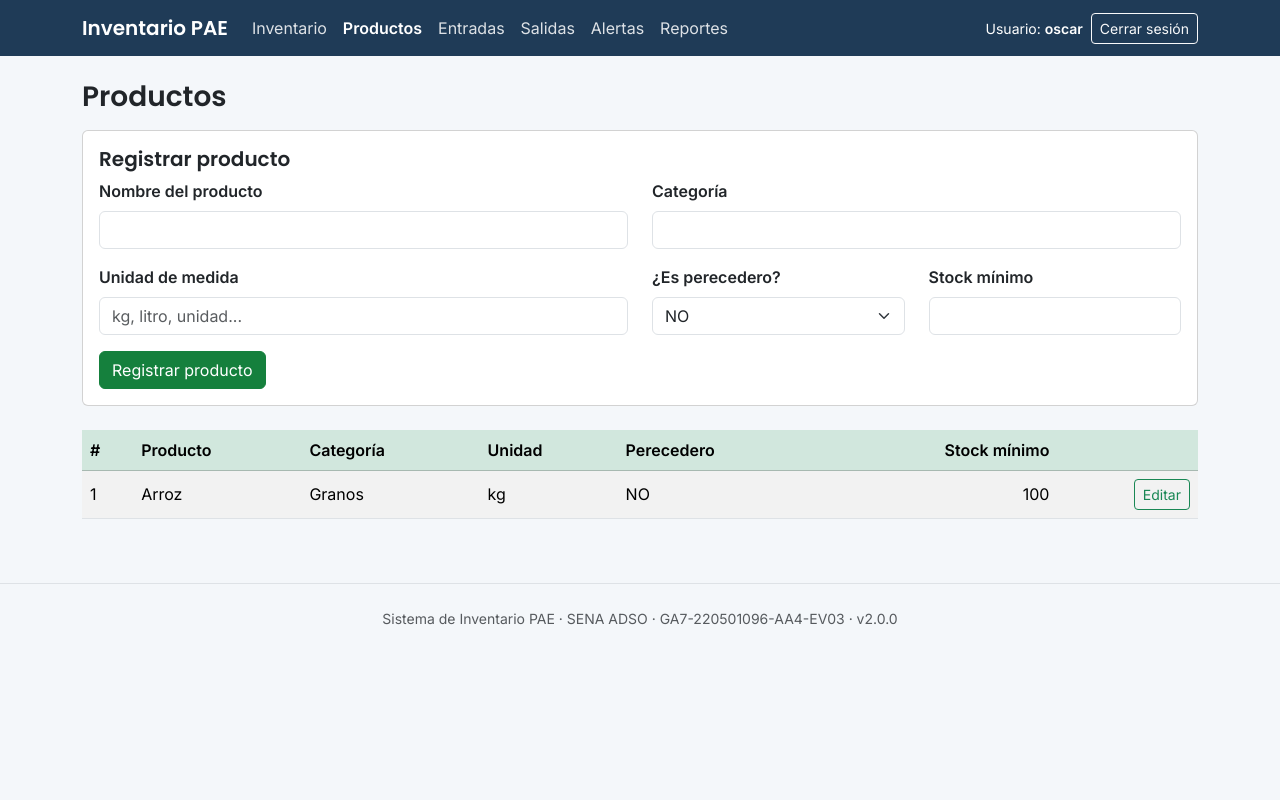
Test: Sistema de Inventario PAE (front-end) › HU-02: muestra el error de producto duplicado que devuelve la API (409)
Expected: the text "Arroz" is shown, [133, 470, 301, 518]
Type "Arroz" into the field labelled "Nombre del producto" at (364, 230), box [99, 211, 628, 249]
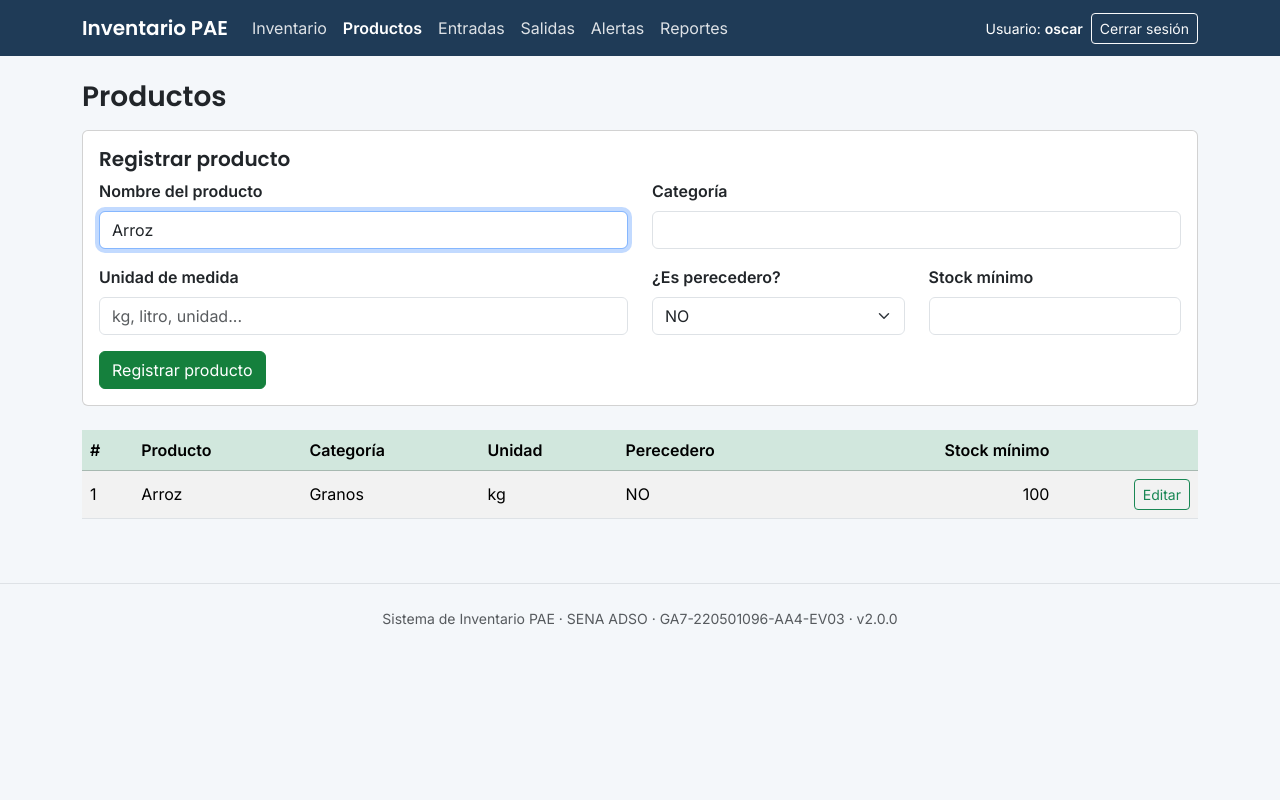
Type "Granos" into the field labelled "Categoría" at (916, 230), box [652, 211, 1181, 249]
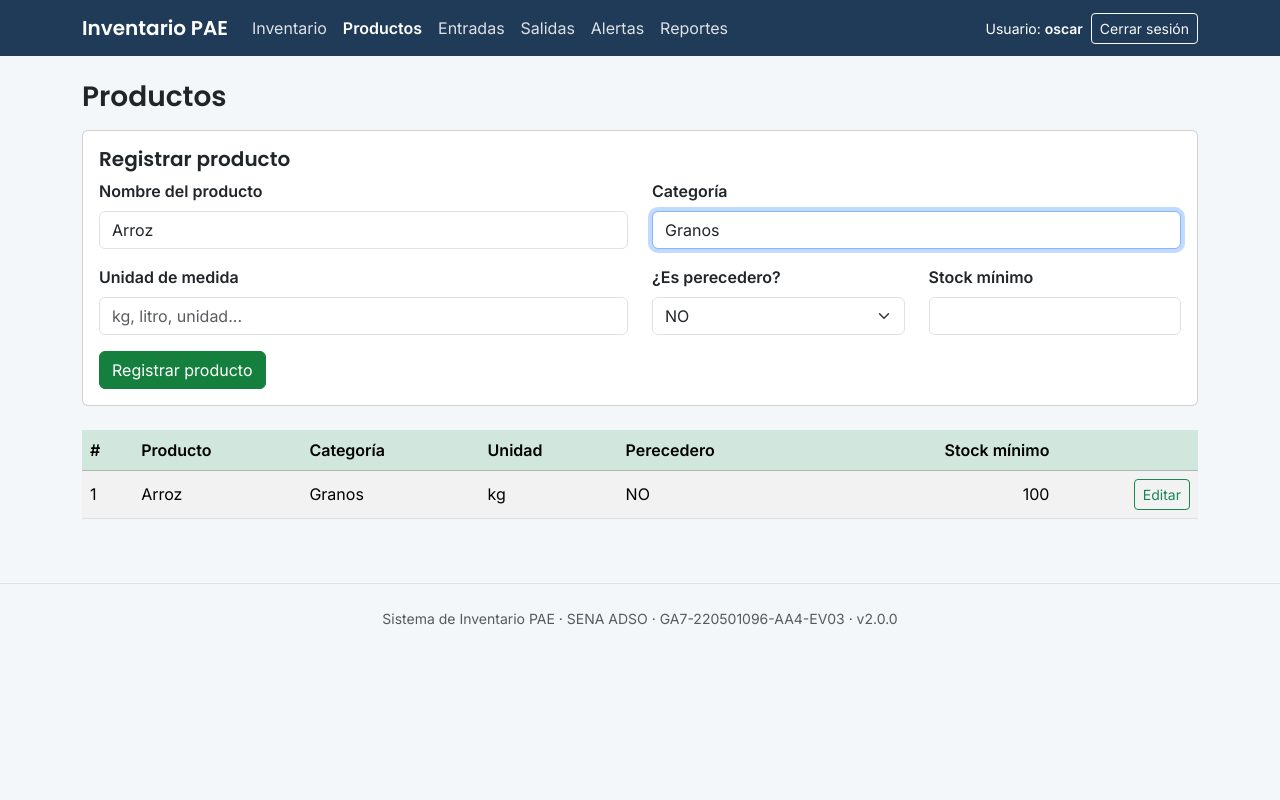
Type "kg" into the field labelled "Unidad de medida" at (364, 316), box [99, 297, 628, 335]
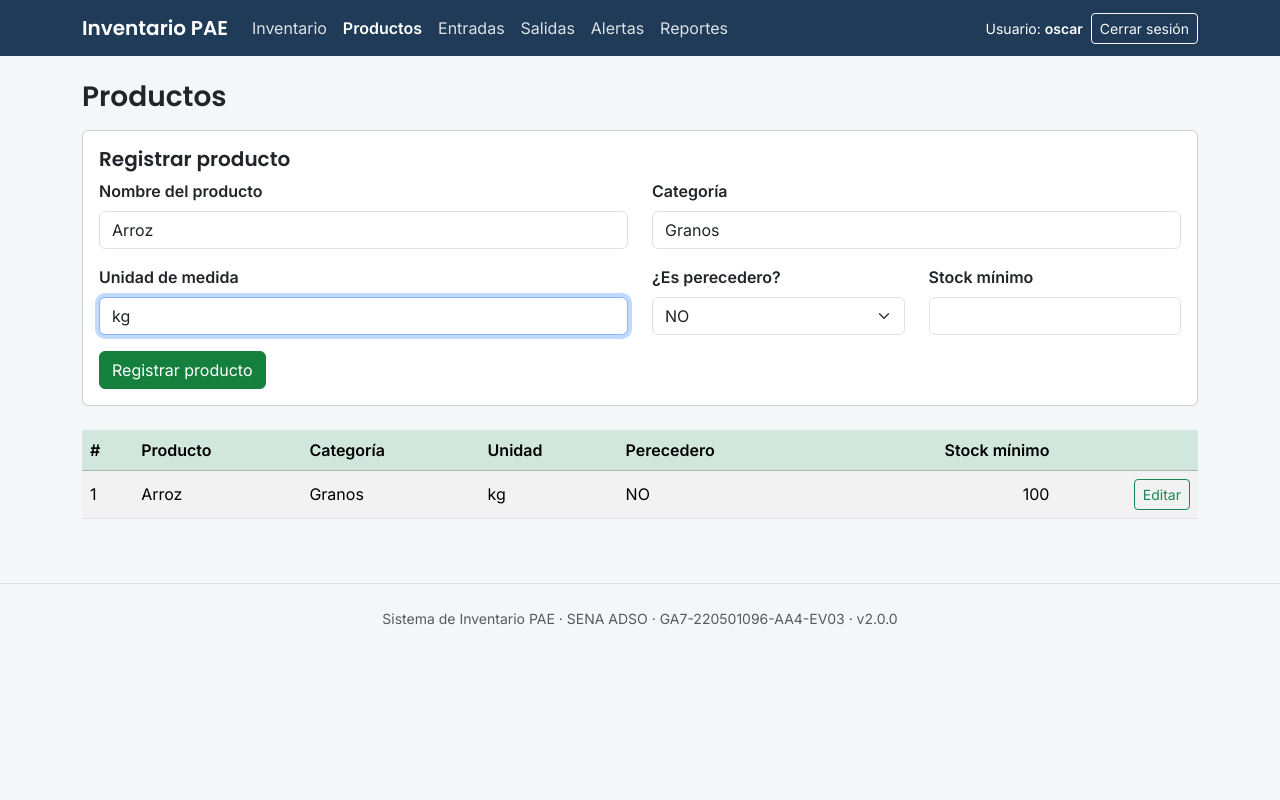
Type "10" into the number field labelled "Stock mínimo" at (1055, 316), box [928, 297, 1181, 335]
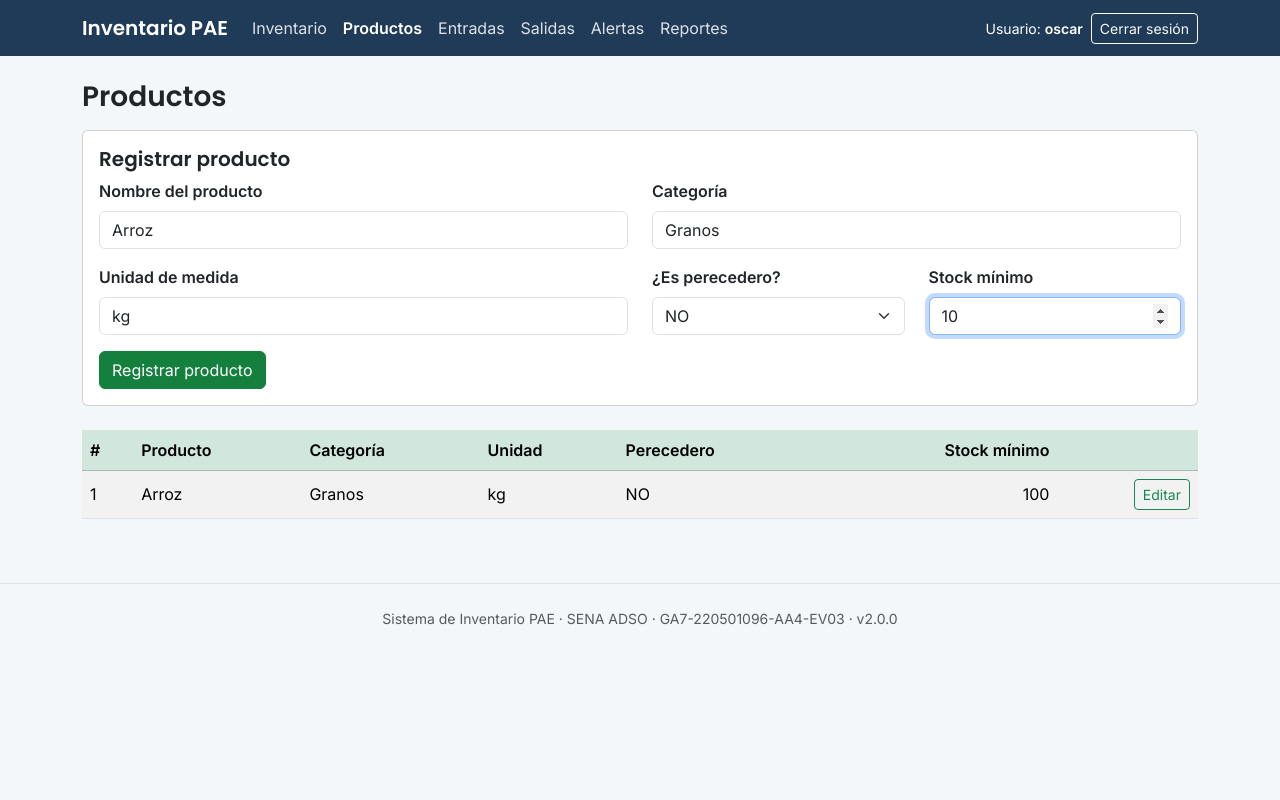
Click the button "Registrar producto" at (182, 370), box [99, 351, 266, 389]
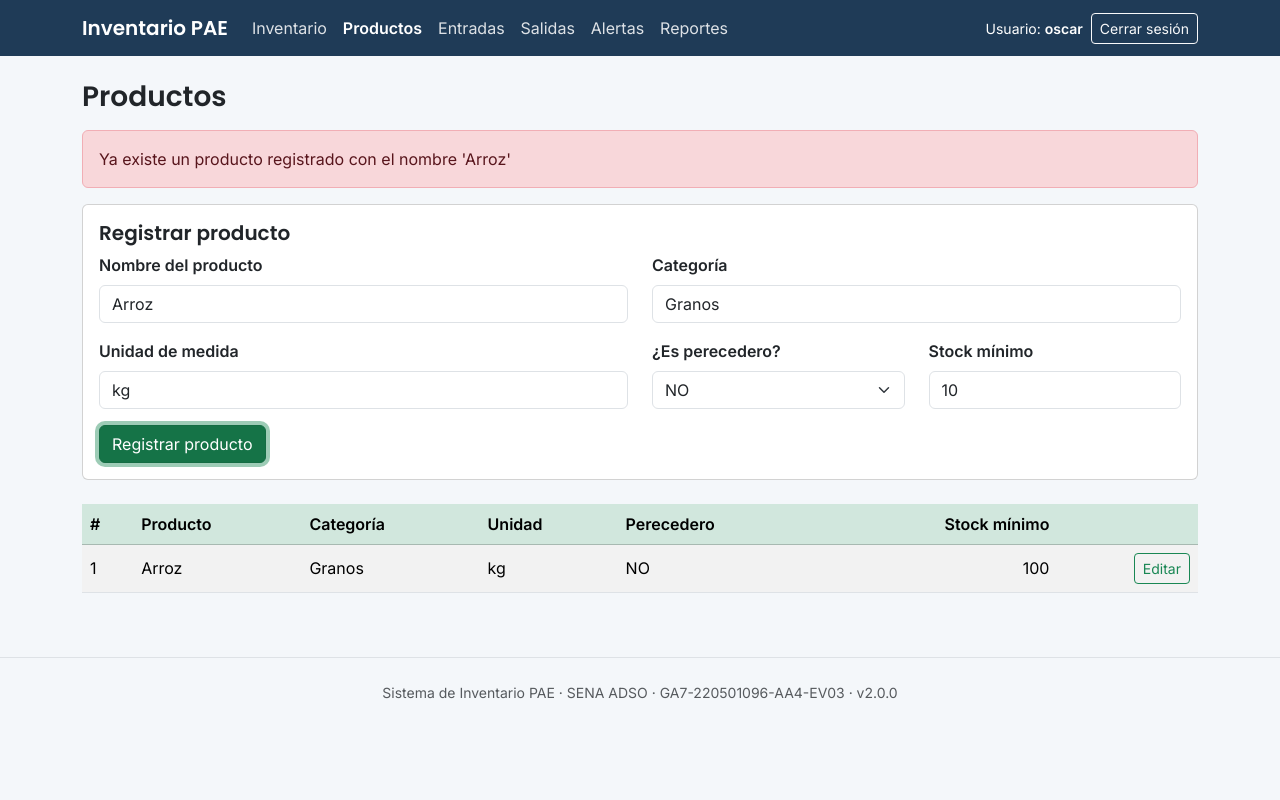
Now the text "Ya existe un producto registrado con el nombre 'Arroz'" is shown, box [82, 130, 1198, 188]
